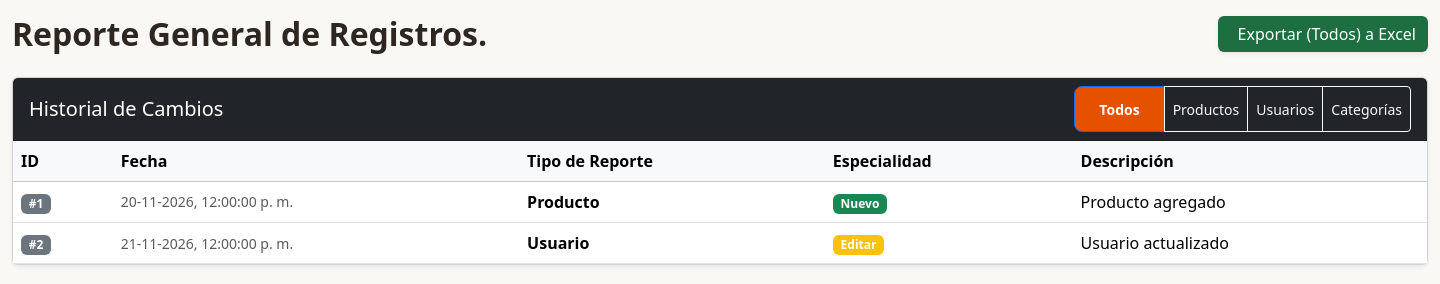
Test: Vista de Administración de Reportes › Debe filtrar los reportes por tipo Producto
Expected: the text "Producto agregado" is shown, [1073,181,1427,222]
Click the button "Productos".
click(1206, 109)  # box [1164,86,1248,132]
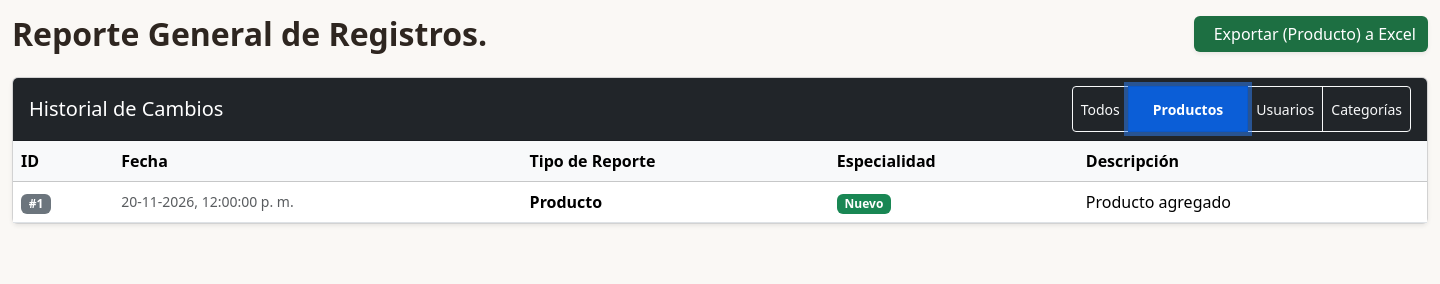
Expected: the text "Producto agregado" is shown, [1078,181,1427,222]
Expected: the text "Usuario actualizado" is gone
